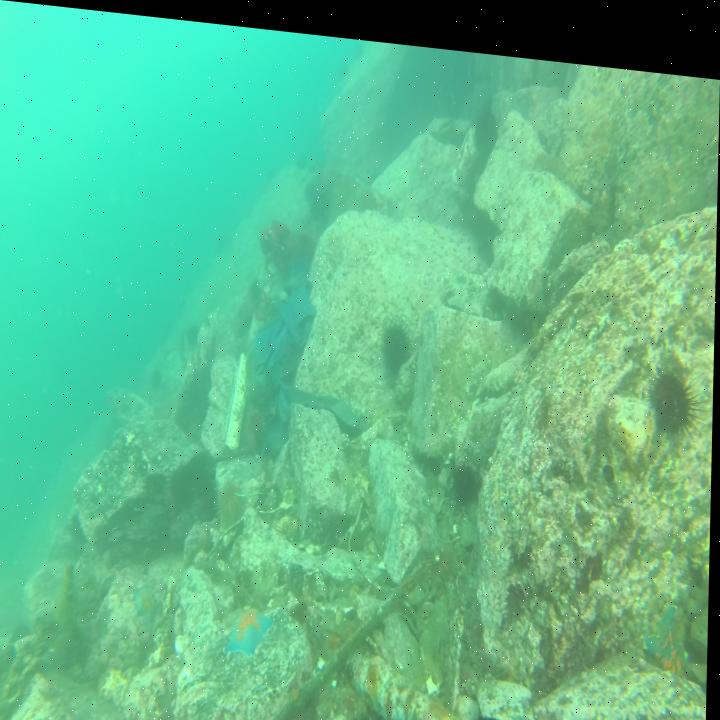echinus: (649, 344, 705, 428), (379, 308, 416, 368), (452, 444, 485, 499), (216, 471, 250, 521), (465, 695, 524, 720), (430, 528, 457, 577)
scallop: (277, 506, 304, 536)
starfish: (644, 584, 698, 664), (228, 596, 277, 654), (134, 576, 162, 619)
